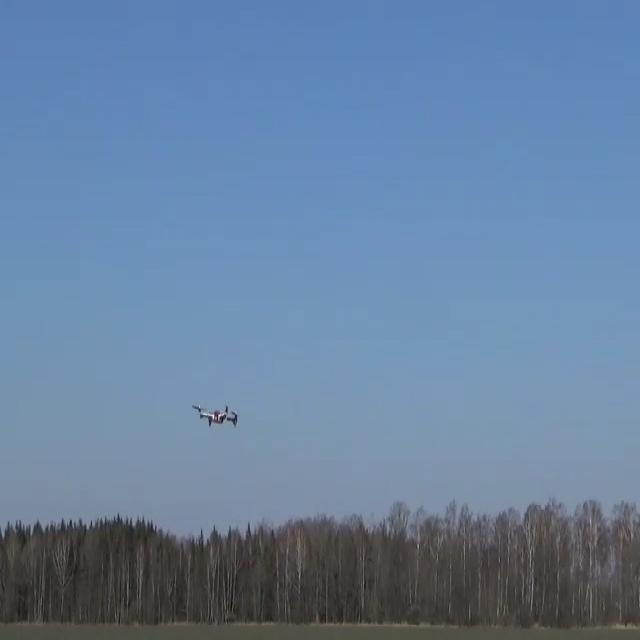drone: (191, 402, 238, 428)
